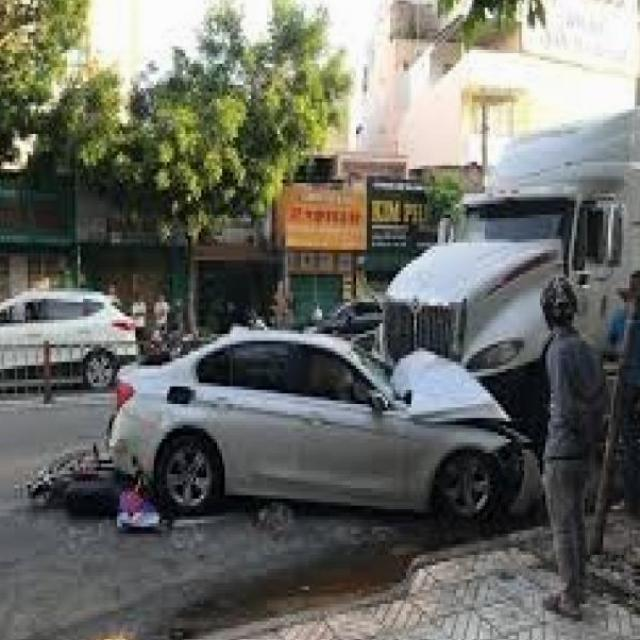accident: (93, 272, 584, 541)
